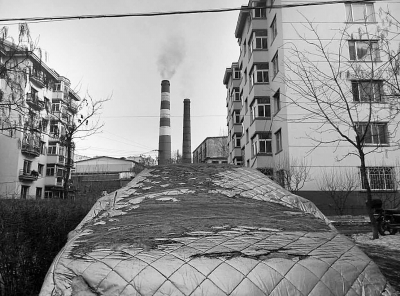dust: (148, 31, 186, 84)
